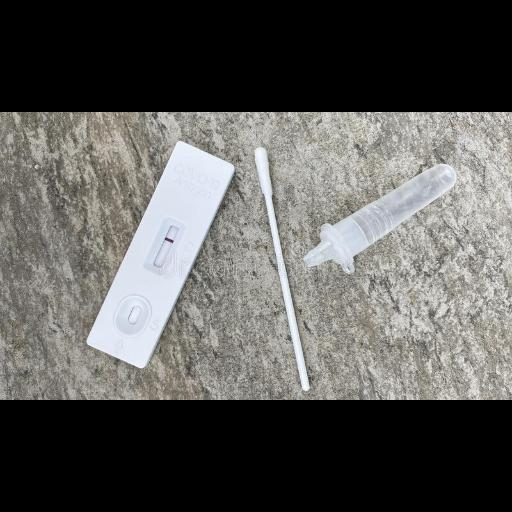Neg: (83, 139, 237, 369)
